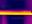Hotspot: (0, 11, 31, 15)
